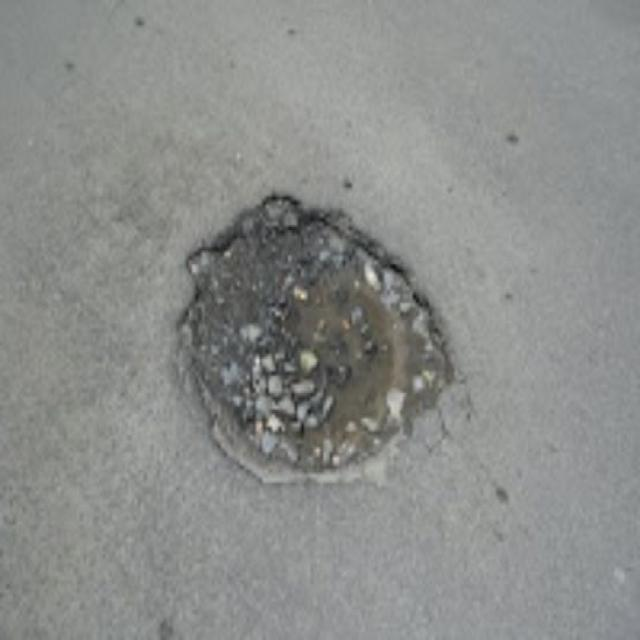pothole: (172, 186, 460, 489)
